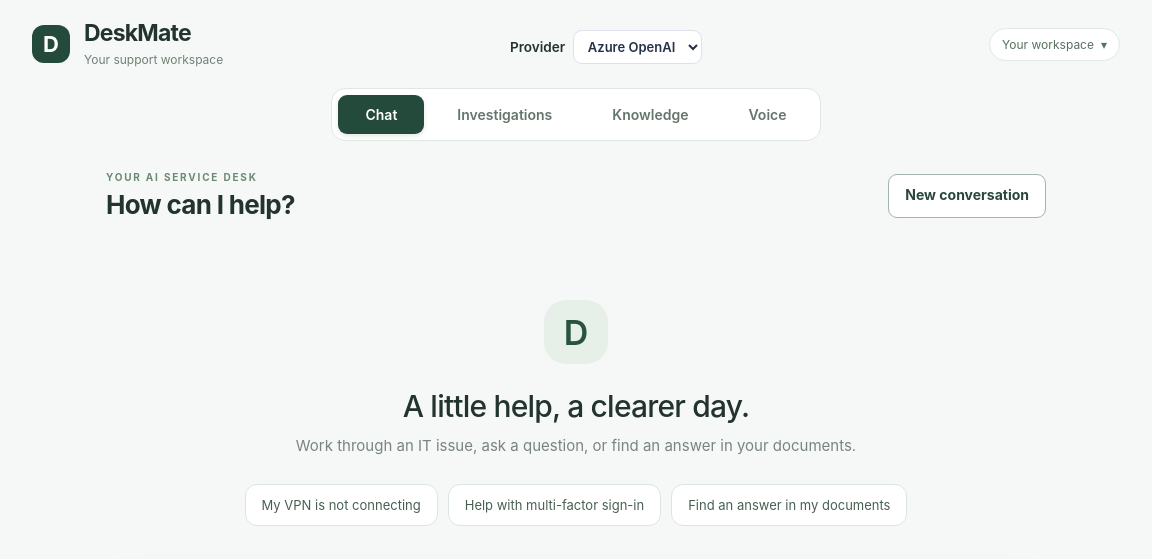
Scenario: ingests pasted knowledge and shows duplicate feedback
Click the button "Knowledge" at x=650, y=114, box [585, 95, 716, 134]
(page scrolled)
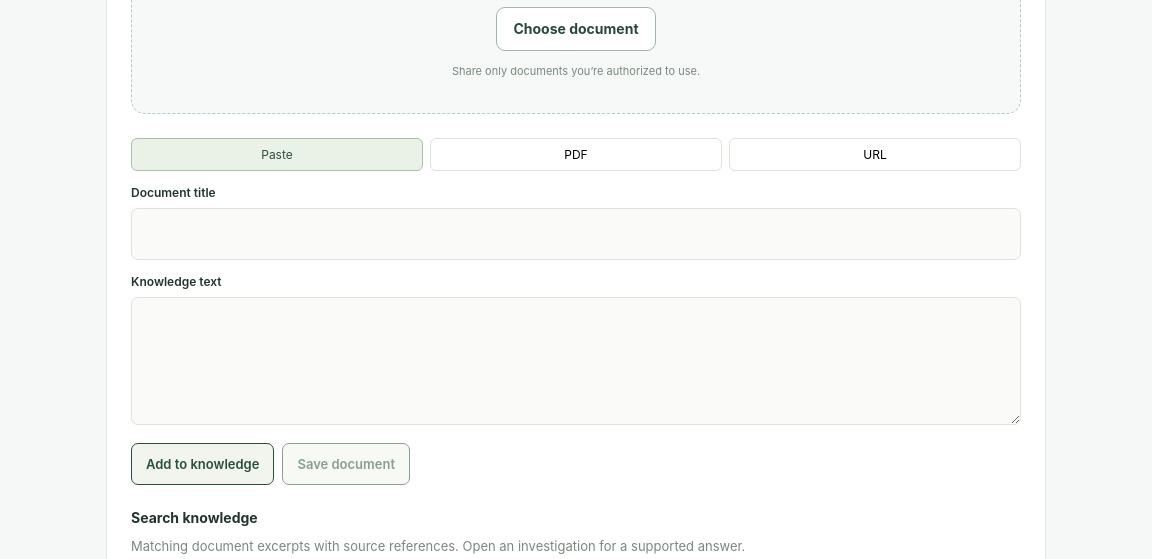
Type "VPN recovery guide" into the text box labelled "Knowledge text" at x=576, y=361, box [131, 297, 1021, 425]
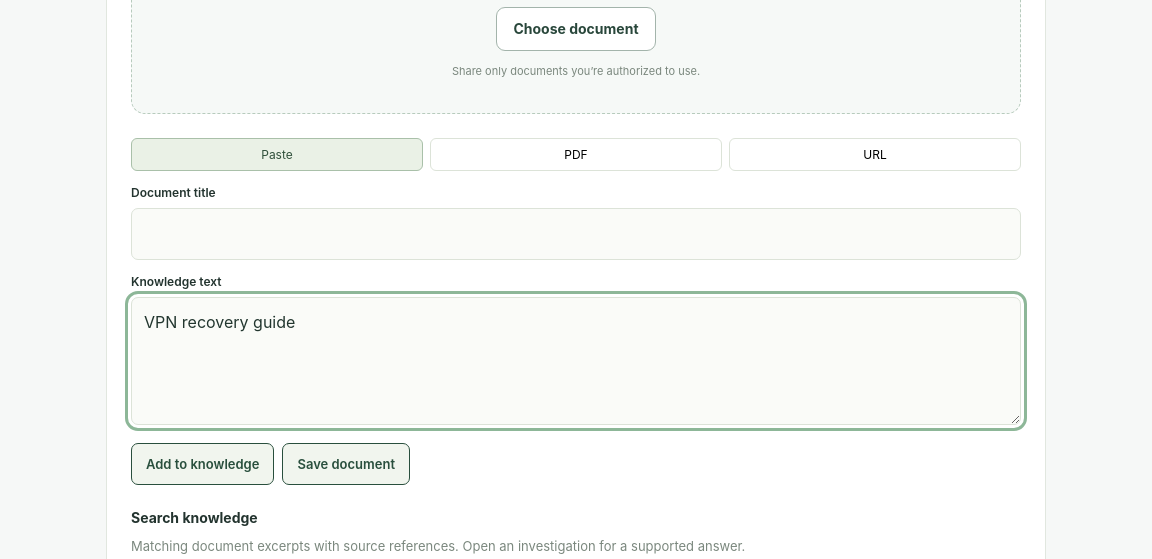
Click the button "Add to knowledge" at x=203, y=464, box [131, 443, 274, 485]
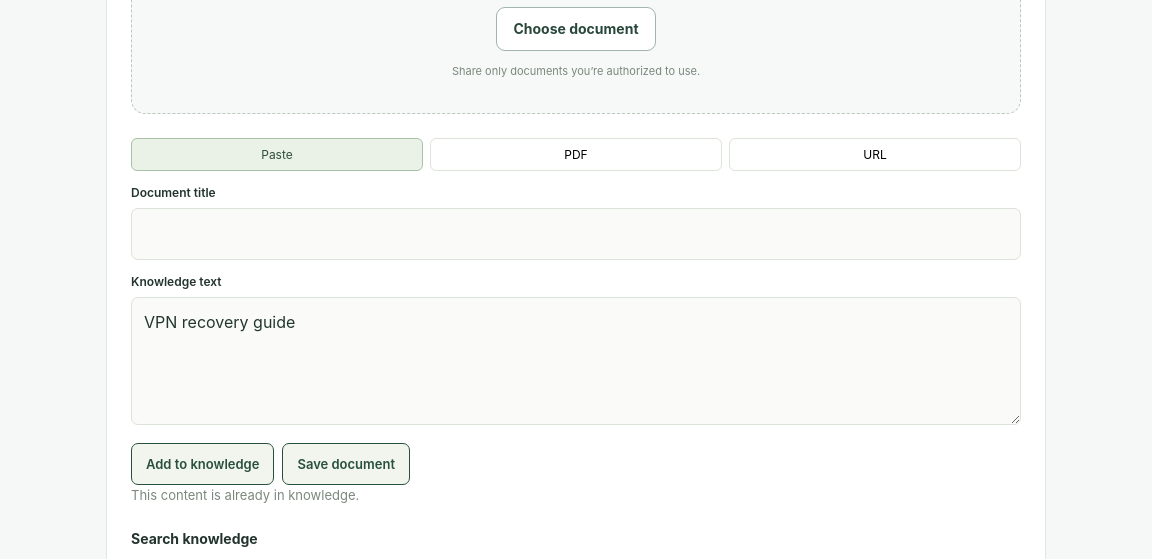
Expected: the text "This content is already in knowledge." is shown, [131, 487, 359, 503]
